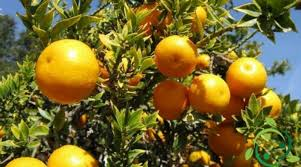orange: (33, 41, 99, 102), (151, 36, 197, 77), (188, 71, 231, 113), (149, 79, 188, 120), (225, 58, 267, 96), (208, 121, 246, 154)
